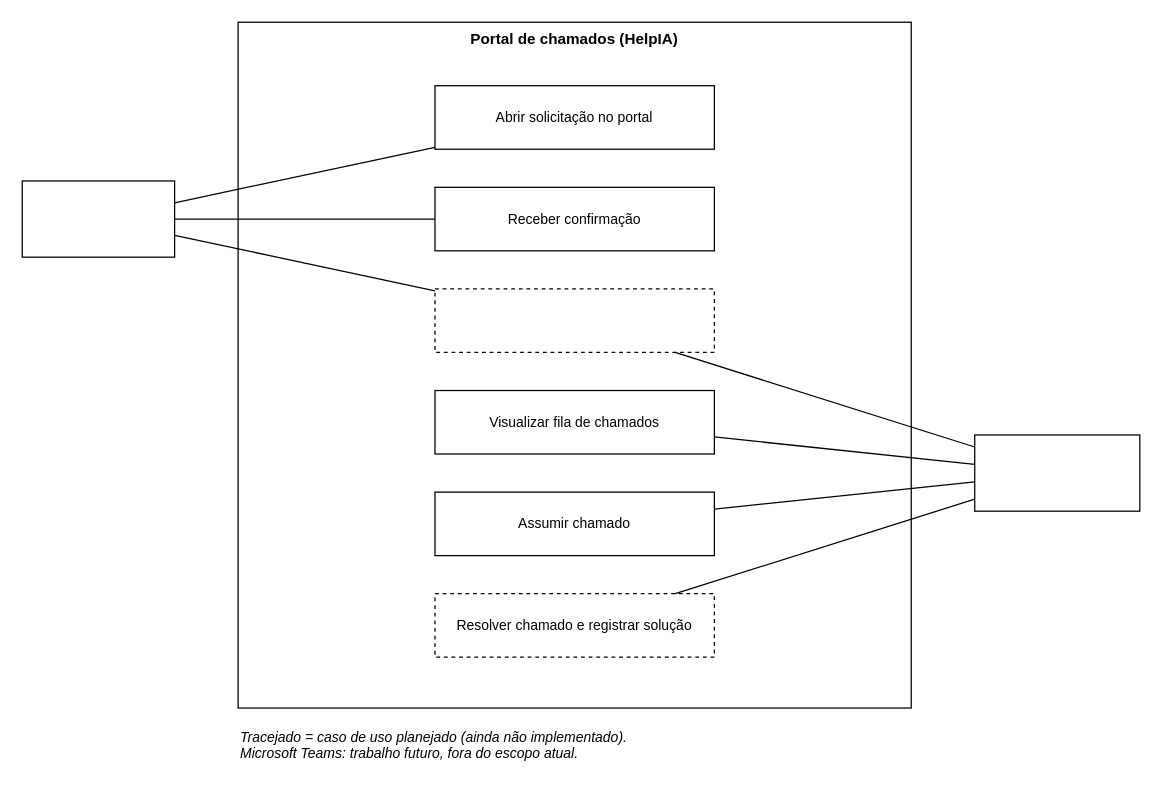
Image size: 1162x806. Some labels were removed from this diagram. Each missing label, with the box of its shape:
Analista: (973, 434, 1140, 511)
Colaborador: (21, 180, 175, 257)
Conversar no chamado: (434, 288, 714, 352)
